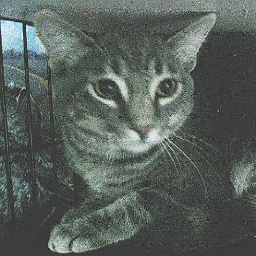cat: (32, 6, 224, 255)
